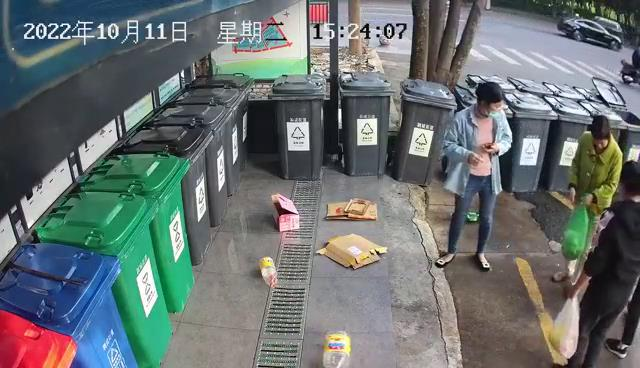garbage-bag: (560, 192, 596, 260), (547, 294, 582, 360)
person: (552, 160, 640, 366), (551, 114, 624, 287)
suliaozhipin: (320, 328, 353, 368), (257, 254, 279, 288)
worker: (432, 79, 515, 273)
zhizhipin: (313, 231, 389, 270), (322, 196, 379, 223), (269, 191, 301, 232)
